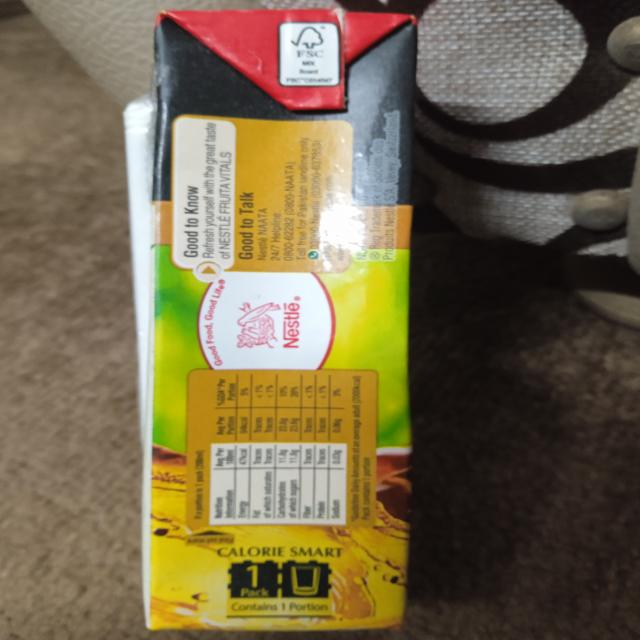Plastic: (111, 5, 438, 640)
